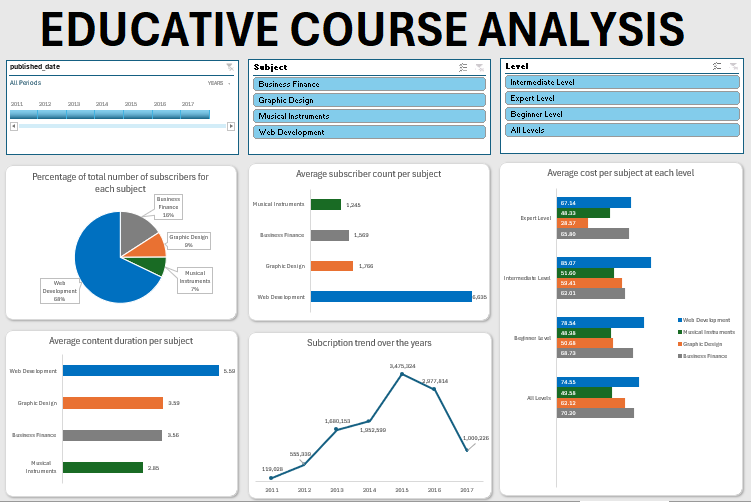

What the dashboard file says about the page in this screenshot:
{"tool":"powerbi","page":{"name":"Course analysis","canvas":[1280,720],"ordinal":0},"visuals":[{"type":"textbox","box":[0,0,830.5,119.4],"z":0},{"type":"slicer","fields":{"Values":["Data_Sheet_Educative_Courses_Export.published_date.Variation.Date Hierarchy.Year","Data_Sheet_Educative_Courses_Export.published_date.Variation.Date Hierarchy.Month"]},"box":[847.9,0,207.9,119.1],"z":1000},{"type":"slicer","fields":{"Values":["Data_Sheet_Educative_Courses_Export.subject"]},"box":[1072.2,0,197.2,119.4],"z":2000},{"type":"card","fields":{"Values":["Sum(Data_Sheet_Educative_Courses_Export.Revenue)"]},"box":[0,135.9,255.6,107.3],"z":3000},{"type":"card","fields":{"Values":["Sum(Data_Sheet_Educative_Courses_Export.num_subscribers)"]},"box":[278.9,135.9,266.4,107.3],"z":4000},{"type":"card","fields":{"Values":["Count(Data_Sheet_Educative_Courses_Export.course_id)"]},"box":[566.7,135.9,264.6,107.3],"z":5000},{"type":"donutChart","title":"Percentage of total subscriptions per subject","fields":{"Y":["Sum(Data_Sheet_Educative_Courses_Export.num_subscribers)"],"Category":["Data_Sheet_Educative_Courses_Export.subject"]},"box":[0,255.6,413,214.5],"z":6000},{"type":"clusteredBarChart","title":"Average cost per subject at each level","fields":{"Category":["Data_Sheet_Educative_Courses_Export.level"],"Y":["Avg(Data_Sheet_Educative_Courses_Export.price)"],"Series":["Data_Sheet_Educative_Courses_Export.subject"]},"box":[847.2,134.7,422.2,584.7],"z":7000},{"type":"clusteredBarChart","title":"Average content duration per subject in hours","fields":{"Category":["Data_Sheet_Educative_Courses_Export.subject"],"Y":["Avg(Data_Sheet_Educative_Courses_Export.content_duration)"]},"box":[426.7,255.4,403.8,215.5],"z":8000},{"type":"clusteredColumnChart","title":"Average rating per subject for each level","fields":{"Category":["Data_Sheet_Educative_Courses_Export.level"],"Y":["Avg(Data_Sheet_Educative_Courses_Export.Rating)"],"Series":["Data_Sheet_Educative_Courses_Export.subject"]},"box":[0,486.3,831.3,234.2],"z":9000}]}

Visuals, with their boxes on the page's 1280x720 design canvas (x1, y1, x2, y2). These are canvas units, not pixel positions in the 751x502 screenshot, which may show the page scaled, cropped or inside an application window:
textbox: <region>0, 0, 830, 119</region>
slicer - Data_Sheet_Educative_Courses_Export.published_date.Variation.Date Hierarchy.Year x Data_Sheet_Educative_Courses_Export.published_date.Variation.Date Hierarchy.Month: <region>848, 0, 1056, 119</region>
slicer - Data_Sheet_Educative_Courses_Export.subject: <region>1072, 0, 1269, 119</region>
card - Sum(Data_Sheet_Educative_Courses_Export.Revenue): <region>0, 136, 256, 243</region>
card - Sum(Data_Sheet_Educative_Courses_Export.num_subscribers): <region>279, 136, 545, 243</region>
card - Count(Data_Sheet_Educative_Courses_Export.course_id): <region>567, 136, 831, 243</region>
"Percentage of total subscriptions per subject" donutChart: <region>0, 256, 413, 470</region>
"Average cost per subject at each level" clusteredBarChart: <region>847, 135, 1269, 719</region>
"Average content duration per subject in hours" clusteredBarChart: <region>427, 255, 830, 471</region>
"Average rating per subject for each level" clusteredColumnChart: <region>0, 486, 831, 720</region>
